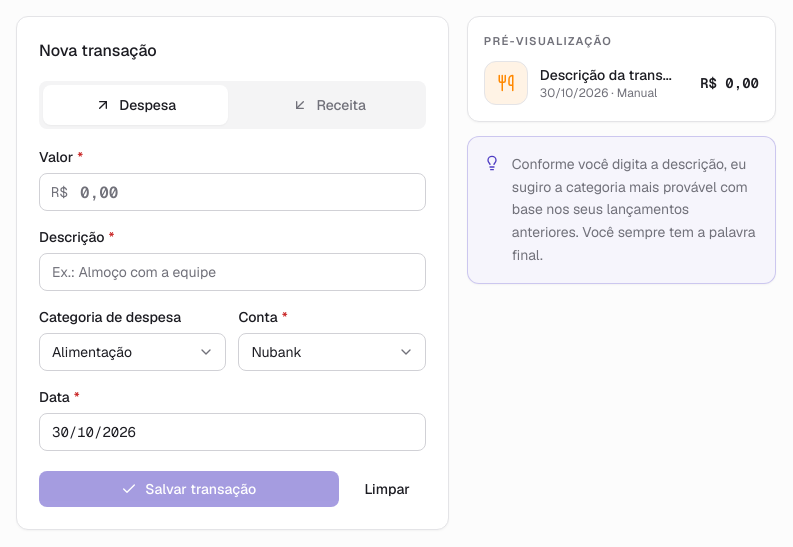
Scenario: ManualTransactionScreen › enables submit once required fields are valid and accounts loaded
Type "Padaria São Jorge" into the field with placeholder "Ex.: Almoço com a equipe" at [232, 272], box [39,253,426,291]
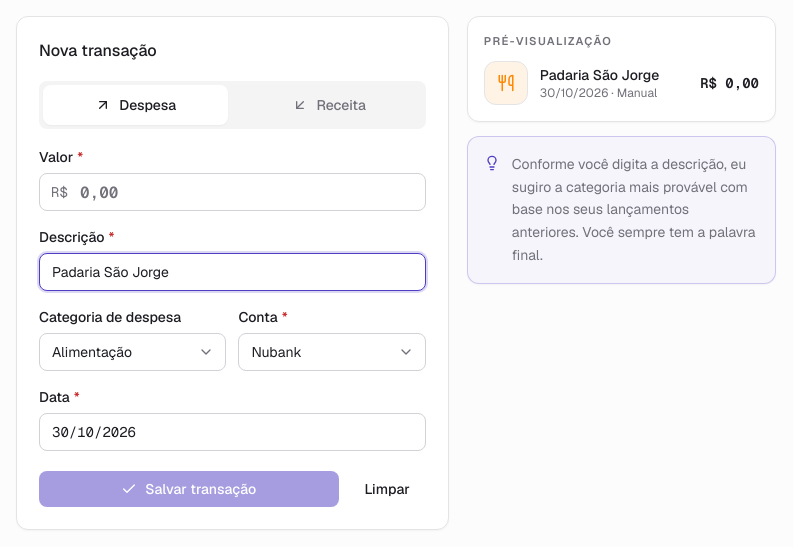
Type "28,50" into the field with placeholder "0,00" at [232, 192], box [39,173,426,211]
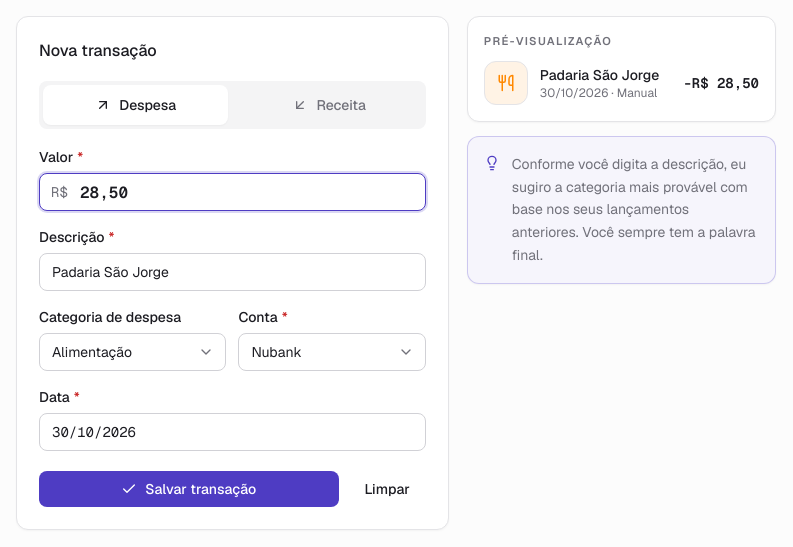
Check: the text "Padaria São Jorge" is shown, box [540,65,671,85]
Check: the text "-R$ 28,50" is shown, box [683,73,759,93]
Check: the button "Salvar transação" is enabled, box [39,471,338,507]
